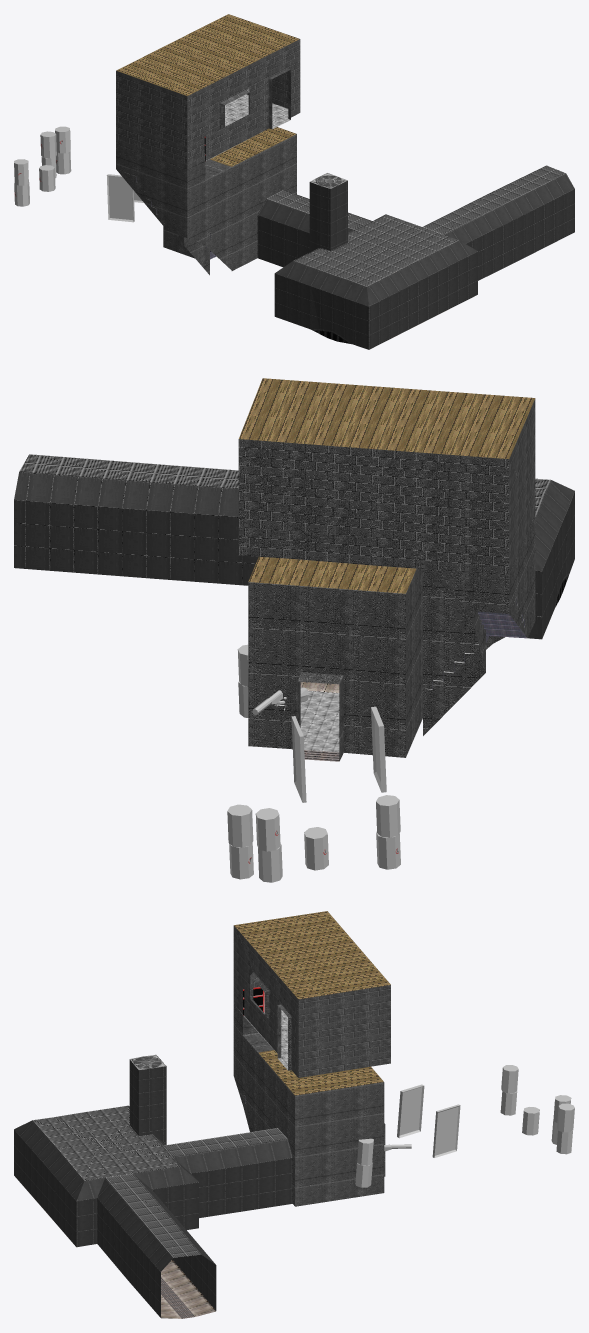
Rendered from dam19.obj.
The picture shows the model from 3 angles, top to bottom: view 1: azimuth 30°, elevation 25°; view 2: azimuth 150°, elevation 25°; view 3: azimuth 270°, elevation 25°; orthographic projection. The views are drawn at different scales.
Visible parts, largest first — view 1: 047_61410439_c.bmp, 059_606744A7_c.bmp, 051_1BE3C87_c.bmp, 014_25813CA2_c.bmp, 058_41AD1AED_c.bmp, 009_25813CA2_c.bmp, 011_41AD1AED_c.bmp, 071_5BD7416A_c.bmp, 057_75F0F38E_c.bmp, 056_25813CA2_c.bmp; view 2: 059_606744A7_c.bmp, 047_61410439_c.bmp, 009_25813CA2_c.bmp, 058_41AD1AED_c.bmp, 014_25813CA2_c.bmp, 051_1BE3C87_c.bmp, 011_41AD1AED_c.bmp, 013_75F0F38E_c.bmp, 015_598EAD81_c.bmp, 017_6FE6FB99_c.bmp, 018_6FE6FB99_c.bmp; view 3: 047_61410439_c.bmp, 009_25813CA2_c.bmp, 059_606744A7_c.bmp, 051_1BE3C87_c.bmp, 058_41AD1AED_c.bmp, 014_25813CA2_c.bmp, 011_41AD1AED_c.bmp, 049_2667E92D_c.bmp, 070_5BD7416A_c.bmp, 071_5BD7416A_c.bmp, 056_25813CA2_c.bmp, 050_11CAEF08_c.bmp.
Part boxes in pixels (<box>): 047_61410439_c.bmp: <box>257,173,574,349</box>; 059_606744A7_c.bmp: <box>116,39,300,169</box>; 051_1BE3C87_c.bmp: <box>267,165,565,286</box>; 014_25813CA2_c.bmp: <box>116,144,231,275</box>; 058_41AD1AED_c.bmp: <box>116,14,299,95</box>; 009_25813CA2_c.bmp: <box>163,134,296,270</box>; 011_41AD1AED_c.bmp: <box>210,127,296,166</box>; 071_5BD7416A_c.bmp: <box>108,176,133,219</box>; 057_75F0F38E_c.bmp: <box>206,94,290,160</box>; 056_25813CA2_c.bmp: <box>268,68,290,128</box>; 059_606744A7_c.bmp: <box>238,399,535,575</box>; 047_61410439_c.bmp: <box>14,472,574,639</box>; 009_25813CA2_c.bmp: <box>248,568,422,761</box>; 058_41AD1AED_c.bmp: <box>239,378,535,458</box>; 014_25813CA2_c.bmp: <box>423,515,535,735</box>; 051_1BE3C87_c.bmp: <box>19,454,550,516</box>; 011_41AD1AED_c.bmp: <box>248,556,416,593</box>; 013_75F0F38E_c.bmp: <box>300,691,339,752</box>; 015_598EAD81_c.bmp: <box>432,597,527,689</box>; 017_6FE6FB99_c.bmp: <box>371,706,386,792</box>; 018_6FE6FB99_c.bmp: <box>291,716,306,802</box>; 047_61410439_c.bmp: <box>14,1059,292,1317</box>; 009_25813CA2_c.bmp: <box>258,1053,385,1206</box>; 059_606744A7_c.bmp: <box>233,925,390,1077</box>; 051_1BE3C87_c.bmp: <box>32,1105,287,1257</box>; 058_41AD1AED_c.bmp: <box>234,911,390,999</box>; 014_25813CA2_c.bmp: <box>233,1004,273,1132</box>; 011_41AD1AED_c.bmp: <box>258,1050,383,1095</box>; 049_2667E92D_c.bmp: <box>24,1187,215,1318</box>; 070_5BD7416A_c.bmp: <box>434,1106,458,1155</box>; 071_5BD7416A_c.bmp: <box>399,1087,422,1135</box>; 056_25813CA2_c.bmp: <box>277,1004,291,1070</box>; 050_11CAEF08_c.bmp: <box>161,1277,195,1318</box>.
Bounding box in the file's own units: 0.3598 × 0.1815 × 0.4151.
